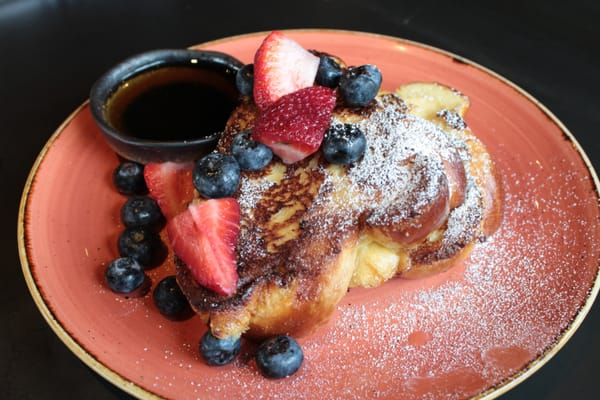sushi: (88, 45, 249, 166)
